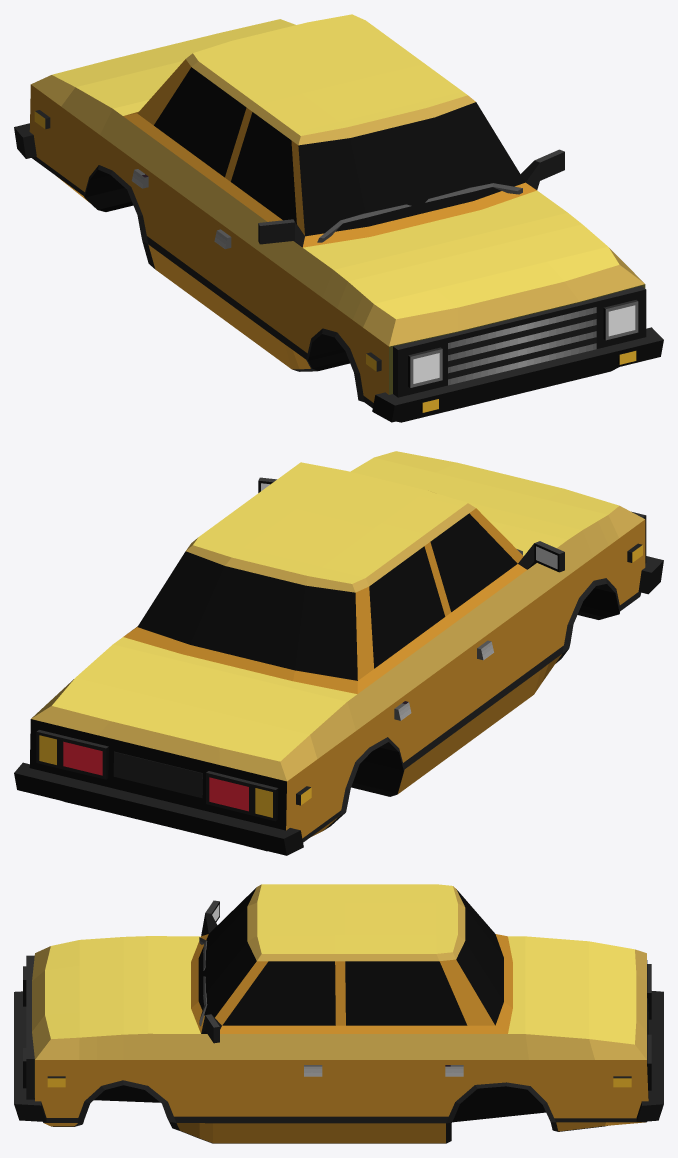
Rendered from SedanYellow.fbx.
3 views of the same model, one above another, from view 1: azimuth 30°, elevation 25°; view 2: azimuth 150°, elevation 25°; view 3: azimuth 270°, elevation 25° (orthographic). The views are drawn at different scales.
Parts seen in each view (by area): view 1: SedanYellow; view 2: SedanYellow; view 3: SedanYellow.
Boxes of the visible parts, left/top/right/bottom form: SedanYellow: left=14, top=14, right=663, bottom=422; SedanYellow: left=14, top=451, right=663, bottom=855; SedanYellow: left=14, top=884, right=663, bottom=1143.
Size of the model in its own units: 1.75 by 1.14 by 3.78.
